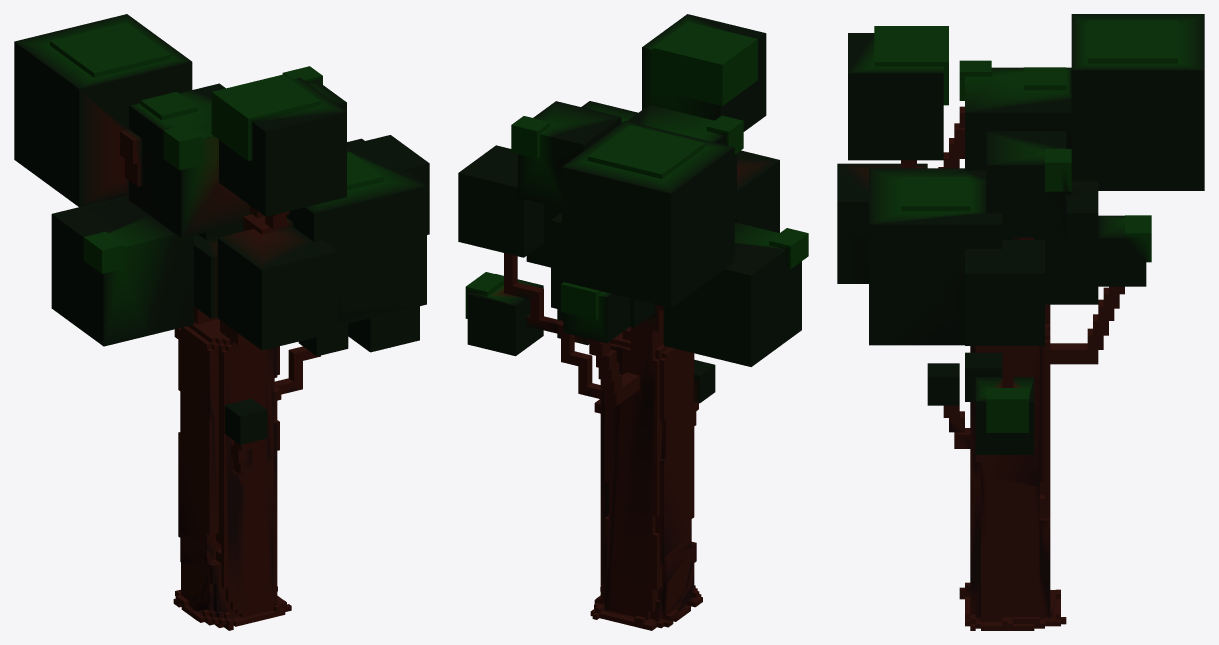
Rendered from Tree_29.fbx.
The picture shows the model from 3 angles, left to right: view 1: azimuth 30°, elevation 25°; view 2: azimuth 150°, elevation 25°; view 3: azimuth 270°, elevation 25°; orthographic projection. The views are drawn at different scales.
Parts seen in each view (by area): view 1: Tree_29; view 2: Tree_29; view 3: Tree_29.
Part boxes in pixels (box(x1,y1,x2,y2)): Tree_29: box(14, 14, 429, 630); Tree_29: box(458, 14, 808, 630); Tree_29: box(837, 14, 1204, 630).
Bounding box in the file's own units: 720 × 1160 × 690.
